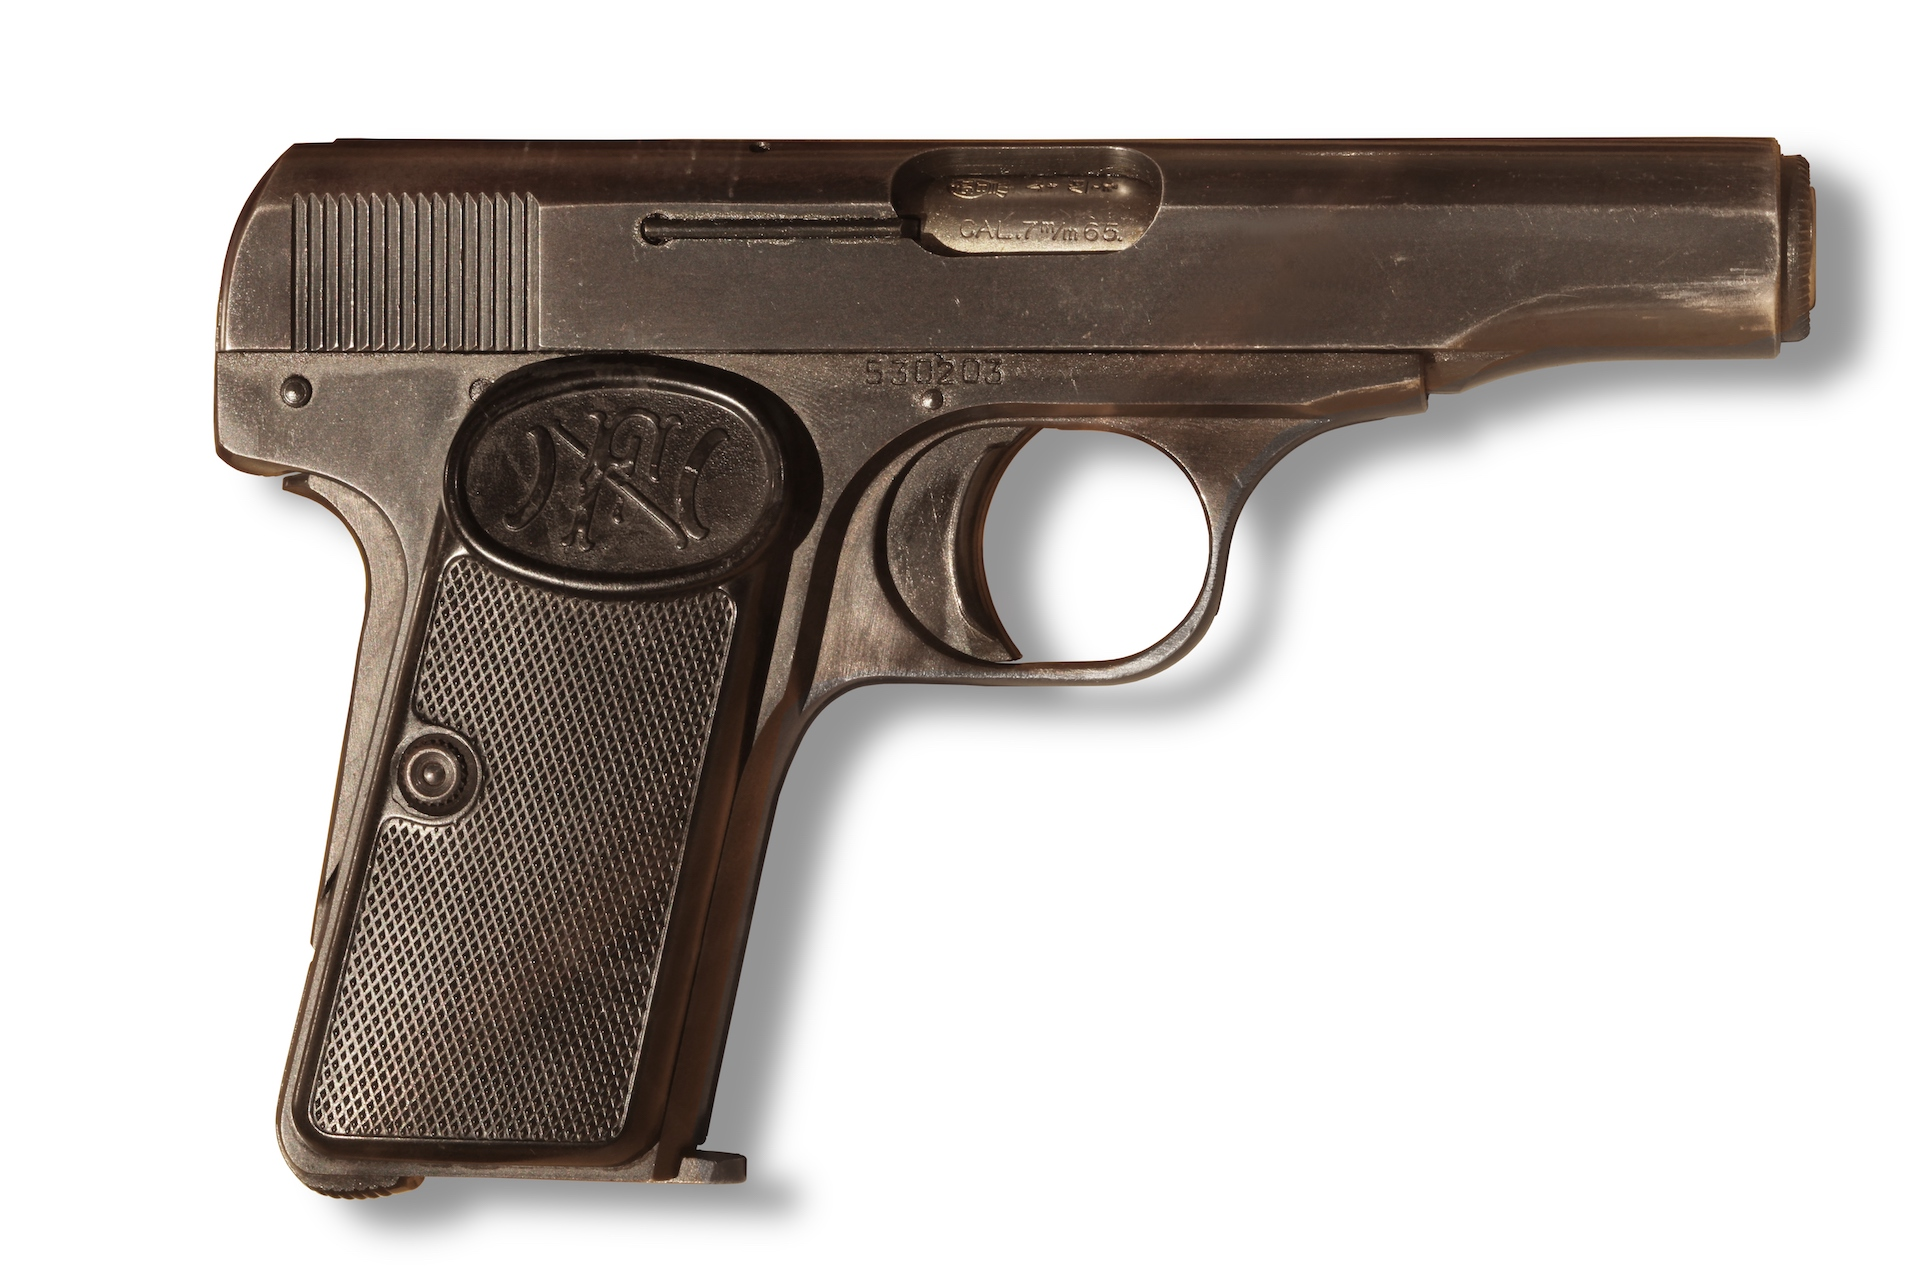pistol: (209, 129, 1826, 1204)
